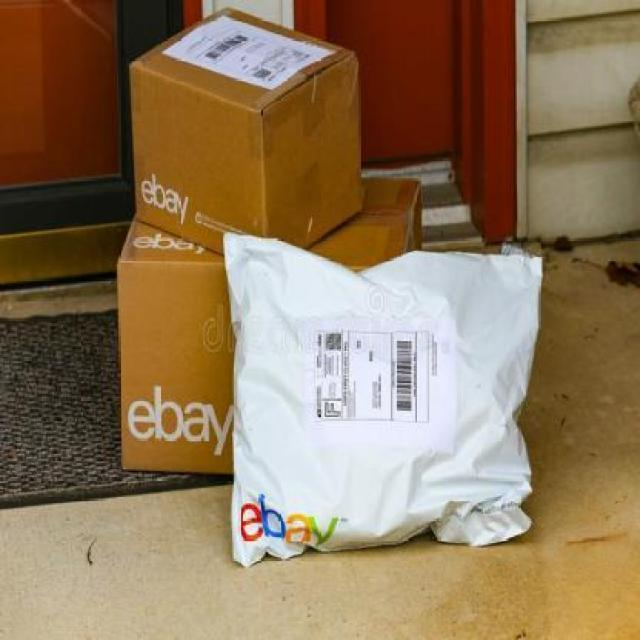box: (108, 173, 434, 478), (126, 2, 382, 255)
